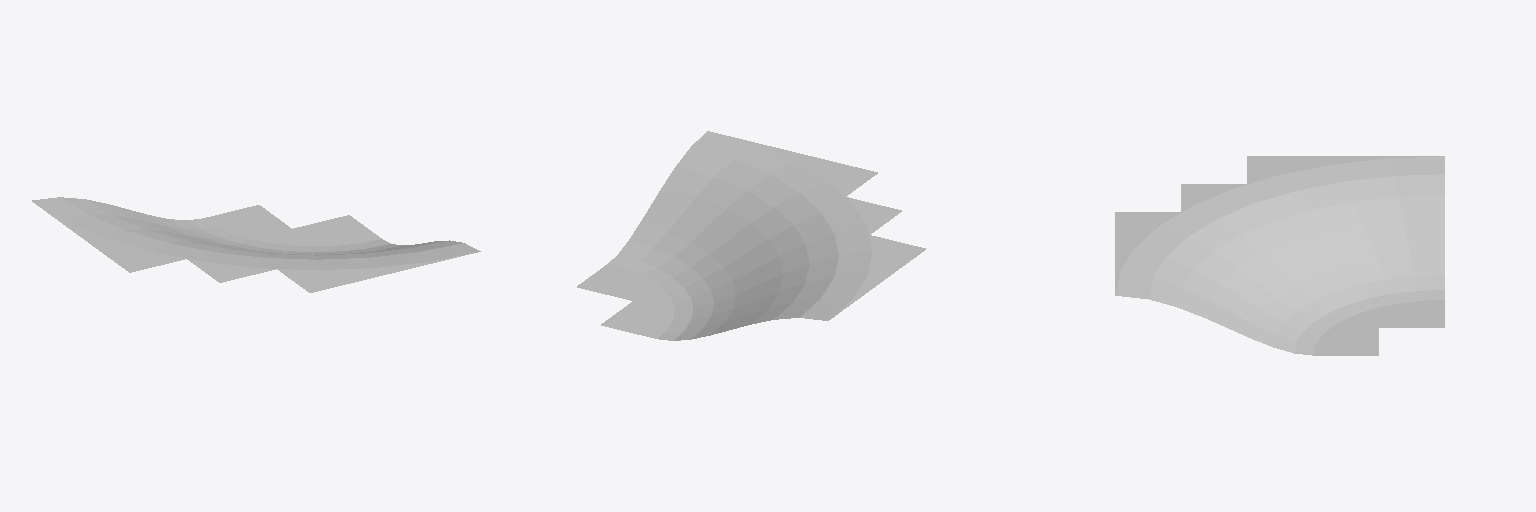
Rendered from Terrain_Hill_Corner_Inner_5x5.obj.
The picture shows the model from 3 angles: view 1: azimuth 30°, elevation 25°; view 2: azimuth 150°, elevation 25°; view 3: azimuth 270°, elevation 25°; orthographic projection.
Visible parts, largest first — view 1: Grass; view 2: Grass; view 3: Grass.
Boxes of the visible parts, <box> form: Grass: <box>32,197,480,292</box>; Grass: <box>577,131,925,340</box>; Grass: <box>1115,156,1444,355</box>.
Size of the model in its own units: 5 by 1 by 5.